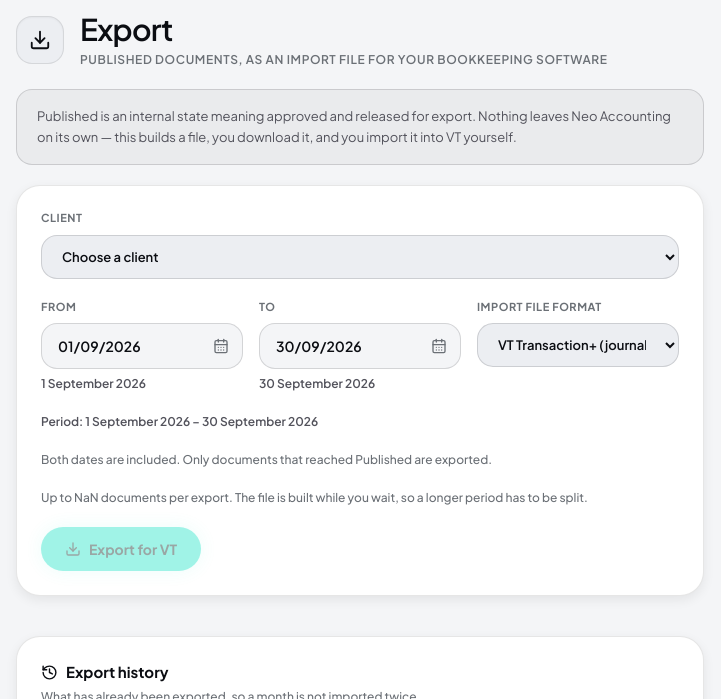
Test case: history that failed to load says so, with the code and a retry — never silently empty
Select "Sparkle Cleaning Ltd" in the dropdown labelled "Client" at (360, 257), box [41, 235, 679, 279]
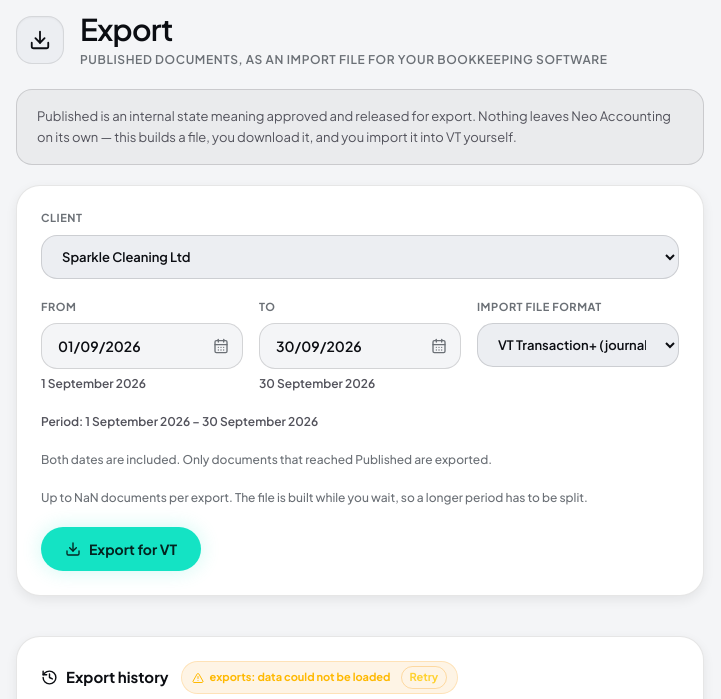
Check: the button "Retry" is shown, box [400, 666, 447, 689]
